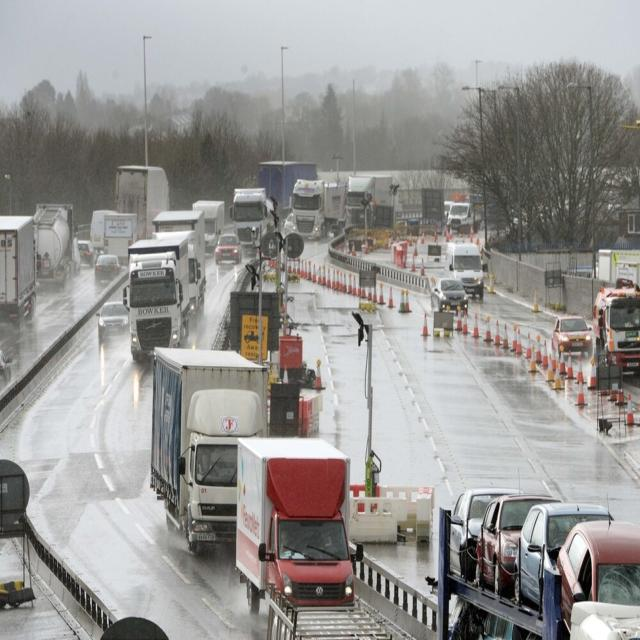bus: (232, 428, 356, 631), (152, 345, 268, 546), (129, 236, 187, 356), (34, 200, 87, 286), (593, 287, 637, 374), (3, 216, 33, 327), (290, 184, 346, 240), (117, 169, 171, 226), (344, 174, 394, 231), (182, 209, 205, 326), (230, 187, 272, 248), (104, 217, 136, 263), (446, 198, 484, 234), (200, 199, 226, 249)
car: (559, 518, 636, 598), (483, 492, 520, 592), (521, 503, 558, 603), (445, 483, 483, 573), (450, 242, 486, 291), (430, 273, 470, 312), (552, 316, 592, 354), (92, 300, 130, 334), (215, 229, 238, 263), (91, 252, 121, 278), (79, 240, 97, 263)
